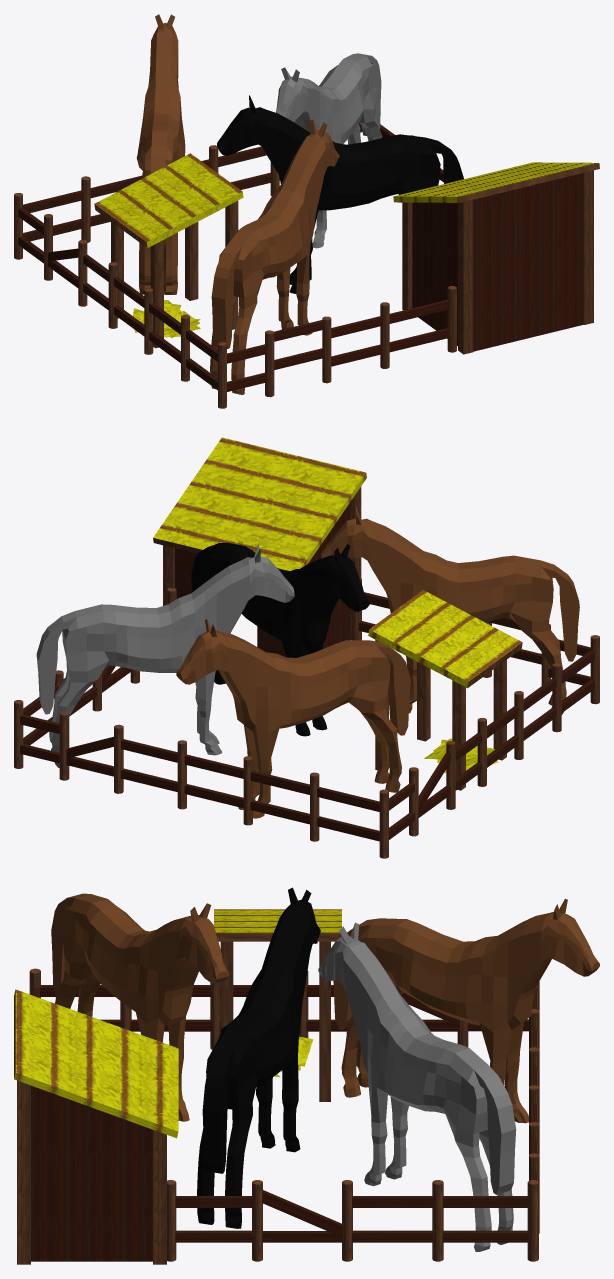
The model's file is HorsesExploited.fbx.
3 views of the same model, one above another, from view 1: azimuth 30°, elevation 25°; view 2: azimuth 150°, elevation 25°; view 3: azimuth 270°, elevation 25° (orthographic). The views are drawn at different scales.
Parts seen in each view (by area): view 1: MinerHouse, Cube.030, Cube.033, Cube.032, Cube.027, Cube.029, Cube, Cube.011, Cube.001, Cube.002, Cube.025, Cube.026 (+22 smaller); view 2: MinerHouse, Cube.029, Cube.032, Cube.030, Cube.033, Cube.027, Cube.011, Cube.012, Cube.013, Cube.014, Cube.024, Cube.009 (+21 smaller); view 3: MinerHouse, Cube.032, Cube.029, Cube.033, Cube.030, Cube.027, Cube.019, Cube.020, Cube.023, Cube.025, Cube.021, Cube.009 (+9 smaller).
Boxes of the visible parts, x1,y1,x2,y2 form: MinerHouse: (393, 162, 599, 354); Cube.030: (210, 119, 339, 394); Cube.033: (217, 95, 463, 293); Cube.032: (276, 53, 382, 248); Cube.027: (94, 153, 243, 247); Cube.029: (136, 14, 185, 294); Cube: (389, 299, 449, 352); Cube.011: (23, 190, 83, 241); Cube.001: (331, 316, 382, 366); Cube.002: (274, 320, 324, 369); Cube.025: (185, 222, 198, 300); Cube.026: (150, 240, 163, 348); MinerHouse: (153, 437, 366, 656); Cube.029: (176, 619, 410, 818); Cube.032: (36, 544, 294, 767); Cube.030: (321, 506, 579, 714); Cube.033: (191, 542, 369, 736); Cube.027: (368, 590, 522, 687); Cube.011: (317, 787, 379, 841); Cube.012: (250, 770, 309, 824); Cube.013: (184, 754, 243, 808); Cube.014: (121, 739, 177, 791); Cube.024: (452, 680, 465, 790); Cube.009: (417, 662, 430, 741); MinerHouse: (14, 989, 178, 1264); Cube.032: (318, 922, 516, 1251); Cube.029: (333, 898, 599, 1123); Cube.033: (197, 887, 320, 1228); Cube.030: (51, 893, 229, 1121); Cube.027: (214, 909, 341, 933); Cube.019: (442, 1196, 528, 1242); Cube.020: (352, 1196, 433, 1242); Cube.023: (175, 1196, 252, 1242); Cube.025: (319, 941, 330, 1101); Cube.021: (262, 1190, 342, 1235); Cube.009: (220, 941, 232, 1031).
Size of the model in its own units: 1053 by 533 by 1172.
Materials: 6 (3 with a texture image).
